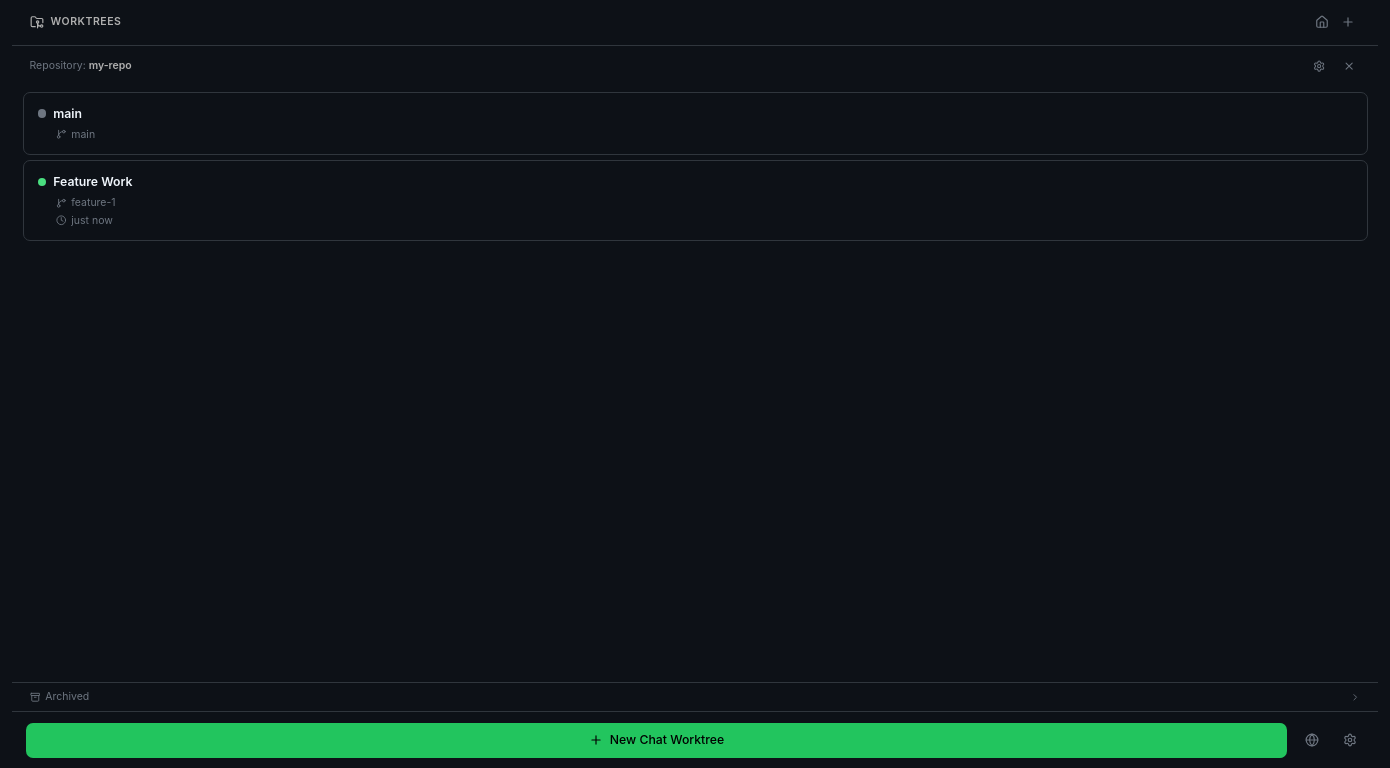
Test: Sidebar › collapse/expand repositories › collapses repo when toggle button clicked, hiding workspaces
Expected: the text "Feature Work" is shown, [53,173,133,191]
# Click the repo toggle div (contains "Repository:")
Click the button "Repository: my-repo" at (59, 66), box [30,55,1360,78]
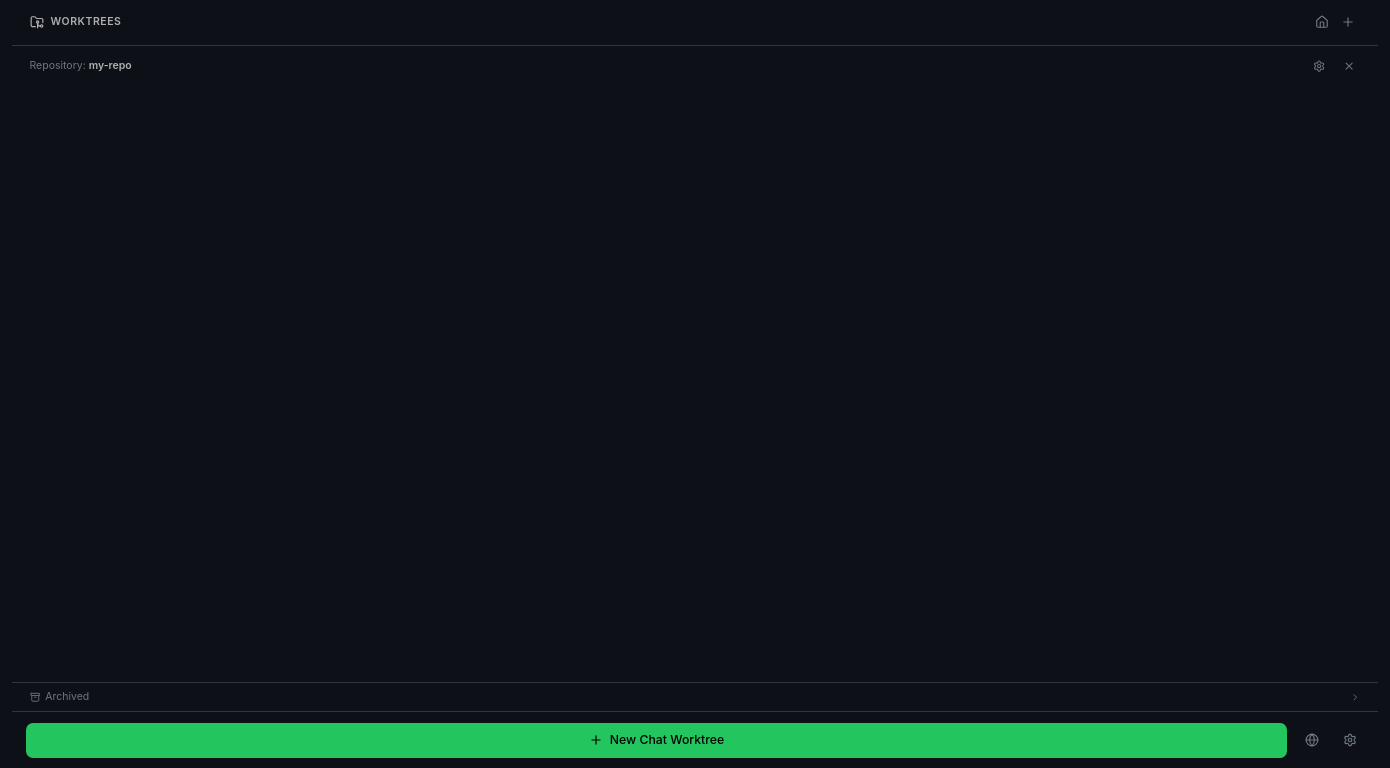
Expected: the button "Feature Work" is gone
